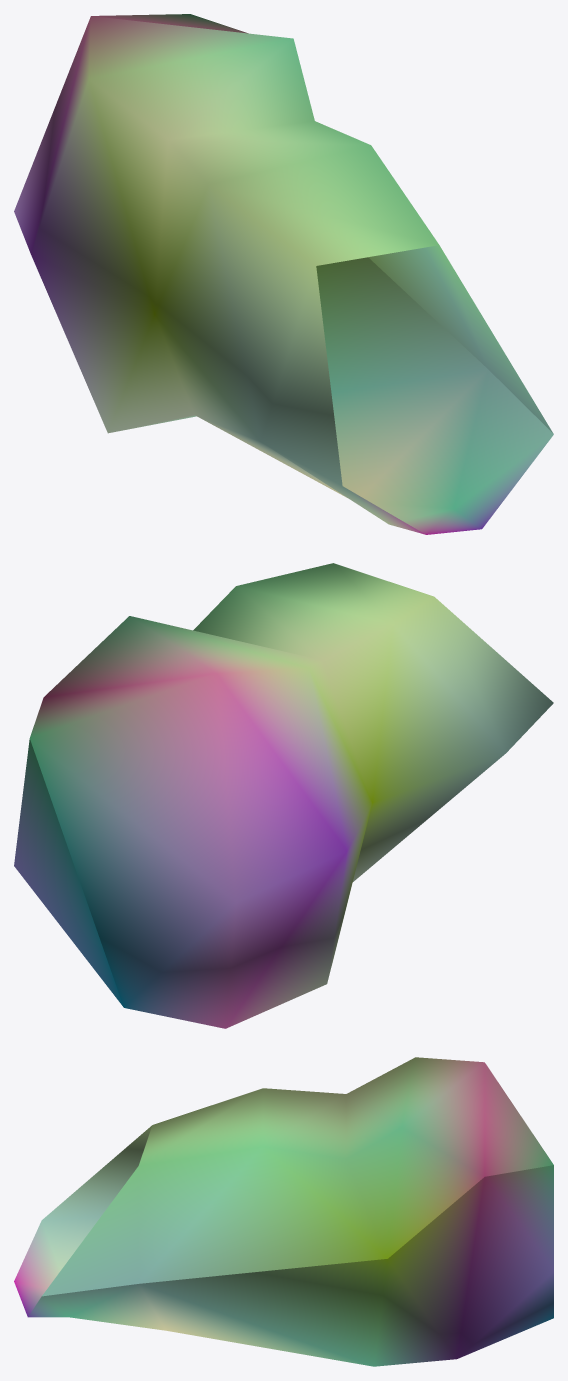
3 renders of one model, top to bottom at view 1: azimuth 30°, elevation 25°; view 2: azimuth 150°, elevation 25°; view 3: azimuth 270°, elevation 25°, orthographic. The views are drawn at different scales.
Parts seen in each view (by area): view 1: part; view 2: part; view 3: part.
Part boxes in pixels (x1=…): part: x1=14, y1=14, x2=553, y2=534; part: x1=14, y1=563, x2=553, y2=1028; part: x1=14, y1=1057, x2=553, y2=1366.
Bounding box in the file's own units: 17 × 22 × 39.
